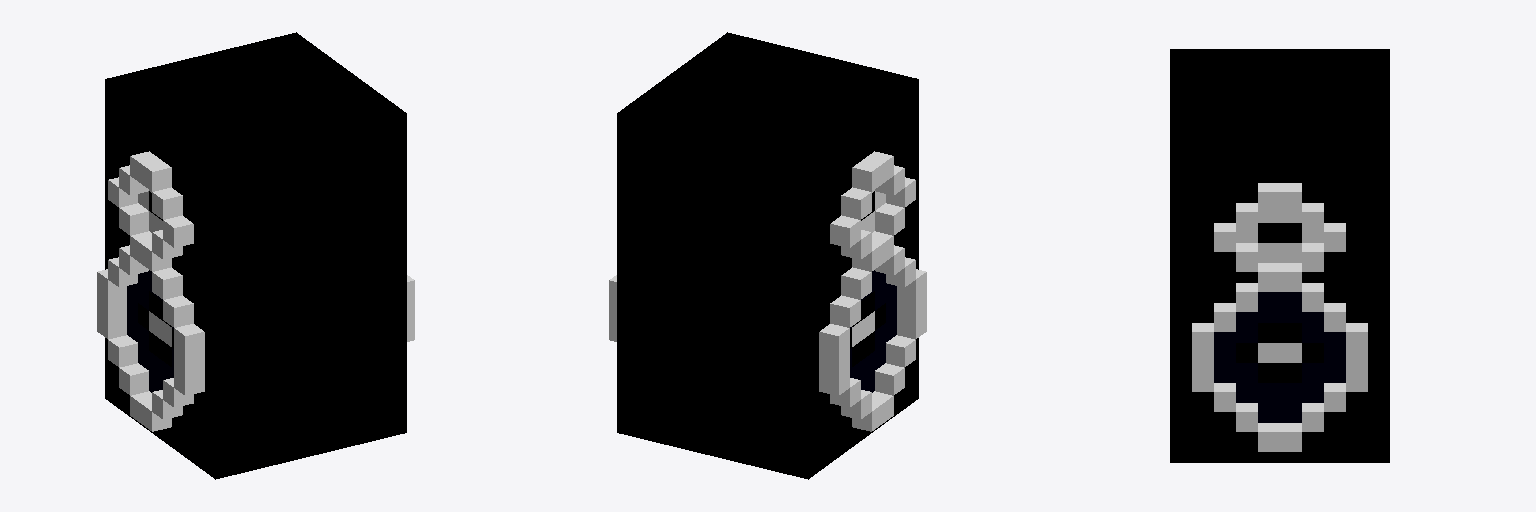
The picture shows the model from 3 angles: view 1: azimuth 30°, elevation 25°; view 2: azimuth 150°, elevation 25°; view 3: azimuth 270°, elevation 25°; orthographic projection.
Parts seen in each view (by area): view 1: speaker_90; view 2: speaker_90; view 3: speaker_90.
Boxes of the visible parts, box(x1,y1,x2,y2) form: speaker_90: box(97, 32, 414, 479); speaker_90: box(609, 32, 926, 479); speaker_90: box(1170, 49, 1389, 462).
Bounding box in the file's own units: 1.2 × 1.6 × 1.
1 materials, 1 textured.